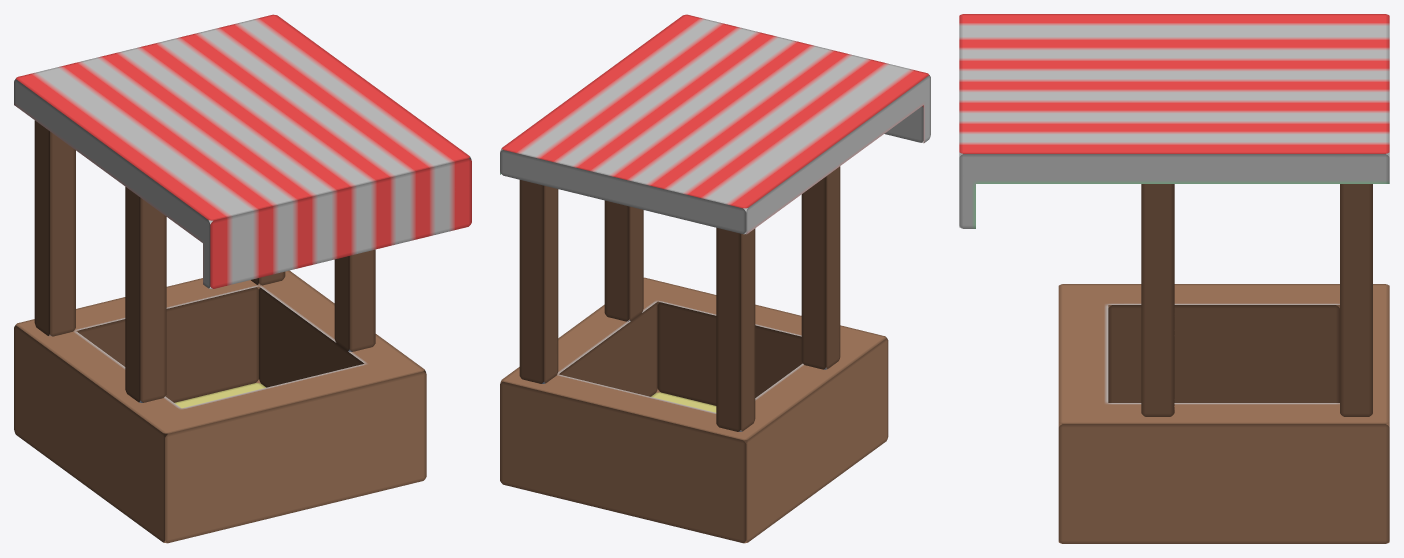
File: marketplace.obj
3 renders of one model, left to right at view 1: azimuth 30°, elevation 25°; view 2: azimuth 150°, elevation 25°; view 3: azimuth 270°, elevation 25°, orthographic. The views are drawn at different scales.
Visible parts, largest first — view 1: mesh; view 2: mesh; view 3: mesh.
Boxes of the visible parts, x1,y1,x2,y2 form: mesh: [14, 14, 471, 543]; mesh: [500, 14, 930, 543]; mesh: [959, 14, 1389, 543].
Size of the model in its own units: 0.625 by 0.8125 by 0.8125.
